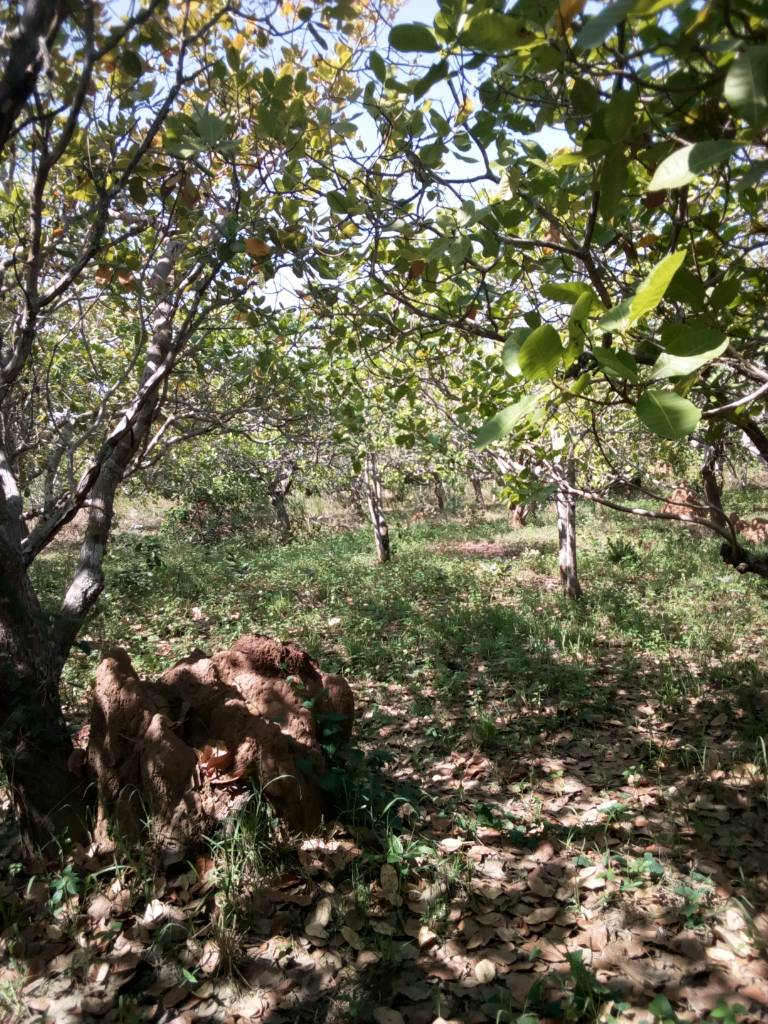Termites: (94, 642, 338, 842)
